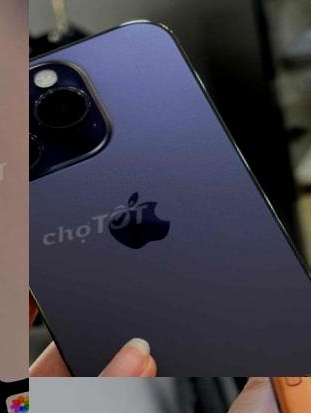scratch: (29, 117, 53, 189)
